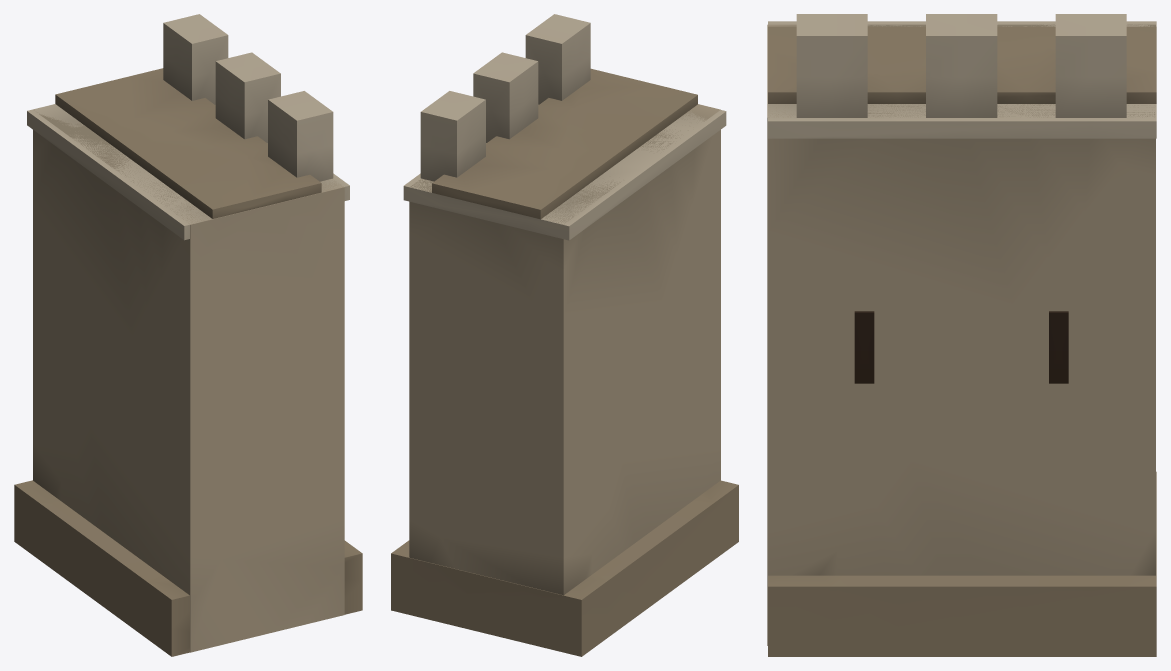
The model's file is wall-bay.glb.
3 renders of one model, left to right at view 1: azimuth 30°, elevation 25°; view 2: azimuth 150°, elevation 25°; view 3: azimuth 270°, elevation 25°, orthographic. The views are drawn at different scales.
Parts seen in each view (by area): view 1: base; view 2: base; view 3: base.
Part boxes in pixels (x1,y1,x2,y2): base: (14, 14, 362, 656); base: (391, 14, 738, 656); base: (767, 14, 1156, 656).
Bounding box in the file's own units: 4.2 × 10.4 × 6.01.
